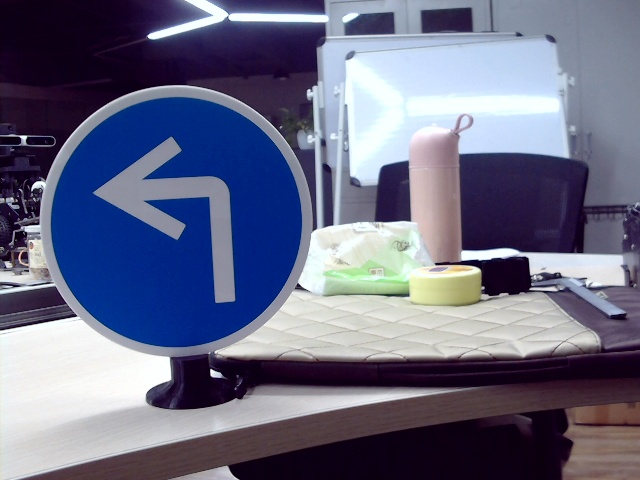turn_left: (96, 130, 244, 309)
